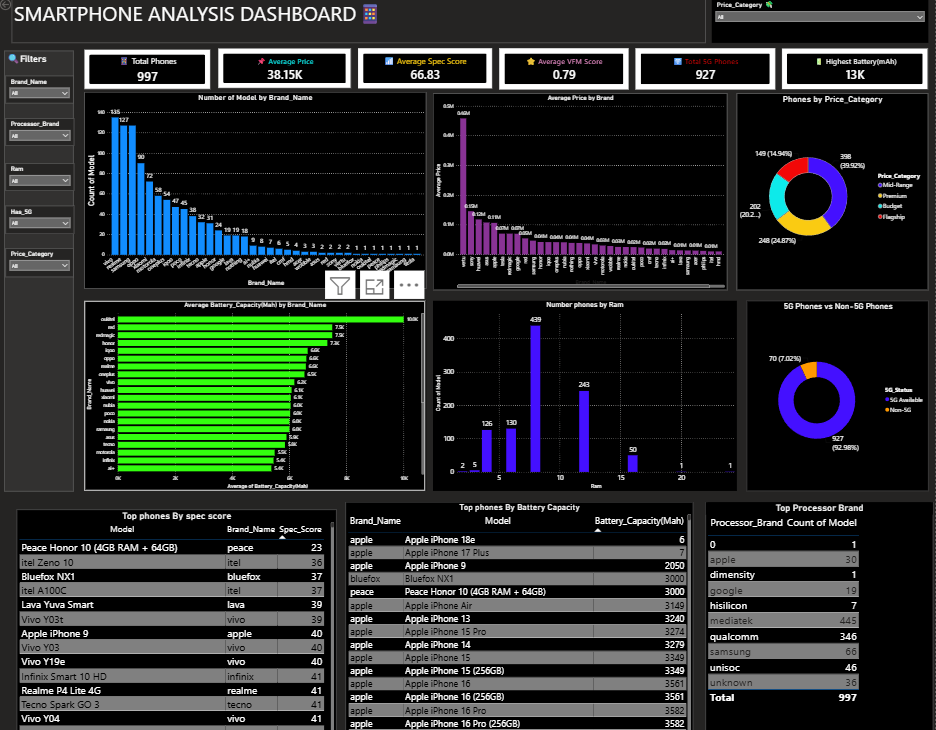

This screenshot's page, from the dashboard's own definition file:
{"tool":"powerbi","page":{"name":"Page 1","canvas":[2500,2000],"ordinal":0},"visuals":[{"type":"textbox","box":[35,0,1850,122.5],"z":0},{"type":"slicer","fields":{"Values":["smartprix_smartphones_2026_csv.Price_Category"]},"box":[1902.5,0,577.5,122.5],"z":1000},{"type":"textbox","title":"🔍Filters","box":[17.5,142.5,185,1175],"z":2000},{"type":"slicer","fields":{"Values":["smartprix_smartphones_2026_csv.Brand_Name"]},"box":[20.2,209.1,181.6,73.4],"z":3000},{"type":"slicer","fields":{"Values":["smartprix_smartphones_2026_csv.Price_Category"]},"box":[20.2,669.5,181.6,77],"z":4000},{"type":"slicer","fields":{"Values":["smartprix_smartphones_2026_csv.Ram"]},"box":[18.3,443.9,183.4,73.4],"z":5000},{"type":"slicer","fields":{"Values":["smartprix_smartphones_2026_csv.Has_5G"]},"box":[18.3,555.8,183.4,75.2],"z":6000},{"type":"slicer","fields":{"Values":["smartprix_smartphones_2026_csv.Processor_Brand"]},"box":[18.3,322.8,183.4,73.4],"z":7000},{"type":"cardVisual","fields":{"Data":["smartprix_smartphones_2026_csv.Average Price"]},"box":[587.5,137.5,355,107.5],"z":8000},{"type":"cardVisual","fields":{"Data":["smartprix_smartphones_2026_csv.Average Spec Score"]},"box":[960,135,357.5,107.5],"z":9000},{"type":"cardVisual","fields":{"Data":["smartprix_smartphones_2026_csv.Average VFM Score"]},"box":[1335,135,345,110],"z":10000},{"type":"cardVisual","fields":{"Data":["smartprix_smartphones_2026_csv.Total 5G Phones"]},"box":[1700,135,372.5,110],"z":11000},{"type":"cardVisual","fields":{"Data":["smartprix_smartphones_2026_csv.Highest Battery"]},"box":[2090,136.7,390,110],"z":12000},{"type":"columnChart","title":"Number of Model by Brand_Name","fields":{"Category":["smartprix_smartphones_2026_csv.Brand_Name"],"Y":["CountNonNull(smartprix_smartphones_2026_csv.Model)"]},"box":[229.3,254.8,912,524.8],"z":13000},{"type":"clusteredColumnChart","title":"Average Price by Brand","fields":{"Category":["smartprix_smartphones_2026_csv.Brand_Name"],"Y":["smartprix_smartphones_2026_csv.Average Price"]},"box":[1160,255,785,525],"z":14000},{"type":"donutChart","title":"Phones by Price_Category ","fields":{"Category":["smartprix_smartphones_2026_csv.Price_Category"],"Y":["CountNonNull(smartprix_smartphones_2026_csv.Price_Category)"]},"box":[1970,255,510,525],"z":15000},{"type":"donutChart","title":"5G Phones vs Non-5G Phones","fields":{"Y":["CountNonNull(smartprix_smartphones_2026_csv.Model)"],"Category":["smartprix_smartphones_2026_csv.5G_Status"]},"box":[1995,810,485,507.5],"z":16000},{"type":"clusteredBarChart","title":"Average Battery_Capacity(Mah) by Brand_Name","fields":{"Y":["Avg(smartprix_smartphones_2026_csv.Battery_Capacity(Mah))"],"Category":["smartprix_smartphones_2026_csv.Brand_Name"]},"box":[229.3,810.1,912,507],"z":17000},{"type":"columnChart","title":"Number phones  by Ram","fields":{"Category":["smartprix_smartphones_2026_csv.Ram"],"Y":["CountNonNull(smartprix_smartphones_2026_csv.Model)"]},"box":[1160,810,810,507.5],"z":18000},{"type":"tableEx","title":"Top phones By spec score","fields":{"Values":["smartprix_smartphones_2026_csv.Model","smartprix_smartphones_2026_csv.Brand_Name","smartprix_smartphones_2026_csv.Spec_Score"]},"box":[50,1365,852.5,602.5],"z":19000},{"type":"cardVisual","fields":{"Data":["smartprix_smartphones_2026_csv.Total Phones"]},"box":[230,140,336.7,106.7],"z":20000},{"type":"actionButton","box":[0,0,100,40],"z":21000},{"type":"tableEx","title":"Top phones By Battery Capacity","fields":{"Values":["smartprix_smartphones_2026_csv.Brand_Name","smartprix_smartphones_2026_csv.Model","smartprix_smartphones_2026_csv.Battery_Capacity(Mah)"]},"box":[925,1347.5,927.5,620],"z":22000},{"type":"tableEx","title":"Top Processor Brand","fields":{"Values":["smartprix_smartphones_2026_csv.Processor_Brand","smartprix_smartphones_2026_csv.Model"]},"box":[1885,1347.5,607.5,620],"z":22001}]}

Visuals, with their boxes in screenshot pixels (x1, y1, x2, y2), scaled from the page's 2500x2000 canvas onto the 936x730 screenshot:
textbox: 13:0:706:45
slicer - smartprix_smartphones_2026_csv.Price_Category: 712:0:929:45
"🔍Filters" textbox: 7:52:76:481
slicer - smartprix_smartphones_2026_csv.Brand_Name: 8:76:76:103
slicer - smartprix_smartphones_2026_csv.Price_Category: 8:244:76:272
slicer - smartprix_smartphones_2026_csv.Ram: 7:162:76:189
slicer - smartprix_smartphones_2026_csv.Has_5G: 7:203:76:230
slicer - smartprix_smartphones_2026_csv.Processor_Brand: 7:118:76:145
cardVisual - smartprix_smartphones_2026_csv.Average Price: 220:50:353:89
cardVisual - smartprix_smartphones_2026_csv.Average Spec Score: 359:49:493:89
cardVisual - smartprix_smartphones_2026_csv.Average VFM Score: 500:49:629:89
cardVisual - smartprix_smartphones_2026_csv.Total 5G Phones: 636:49:776:89
cardVisual - smartprix_smartphones_2026_csv.Highest Battery: 782:50:929:90
"Number of Model by Brand_Name" columnChart: 86:93:427:285
"Average Price by Brand" clusteredColumnChart: 434:93:728:285
"Phones by Price_Category " donutChart: 738:93:929:285
"5G Phones vs Non-5G Phones" donutChart: 747:296:929:481
"Average Battery_Capacity(Mah) by Brand_Name" clusteredBarChart: 86:296:427:481
"Number phones  by Ram" columnChart: 434:296:738:481
"Top phones By spec score" tableEx: 19:498:338:718
cardVisual - smartprix_smartphones_2026_csv.Total Phones: 86:51:212:90
actionButton: 0:0:37:15
"Top phones By Battery Capacity" tableEx: 346:492:694:718
"Top Processor Brand" tableEx: 706:492:933:718
